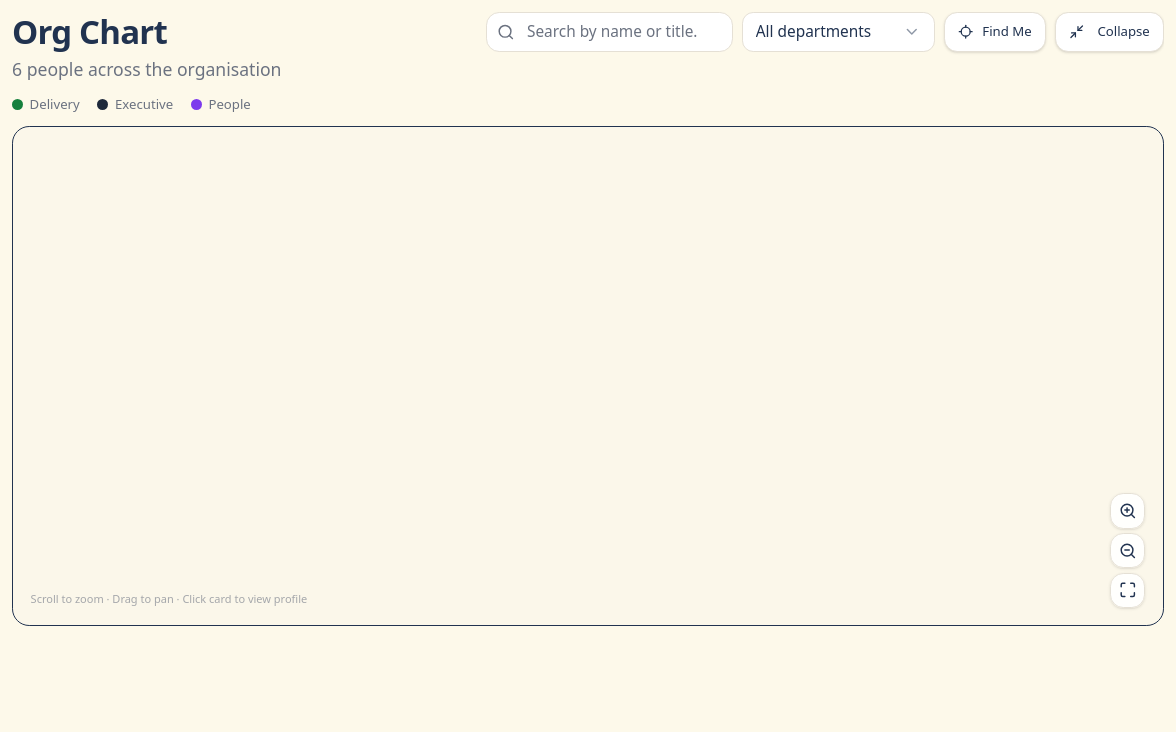
Scenario: OrgChartContent › clears search when clear button is clicked
Type "test" into the field with placeholder "Search by name or title..." at (610, 32), box [486,12,733,52]
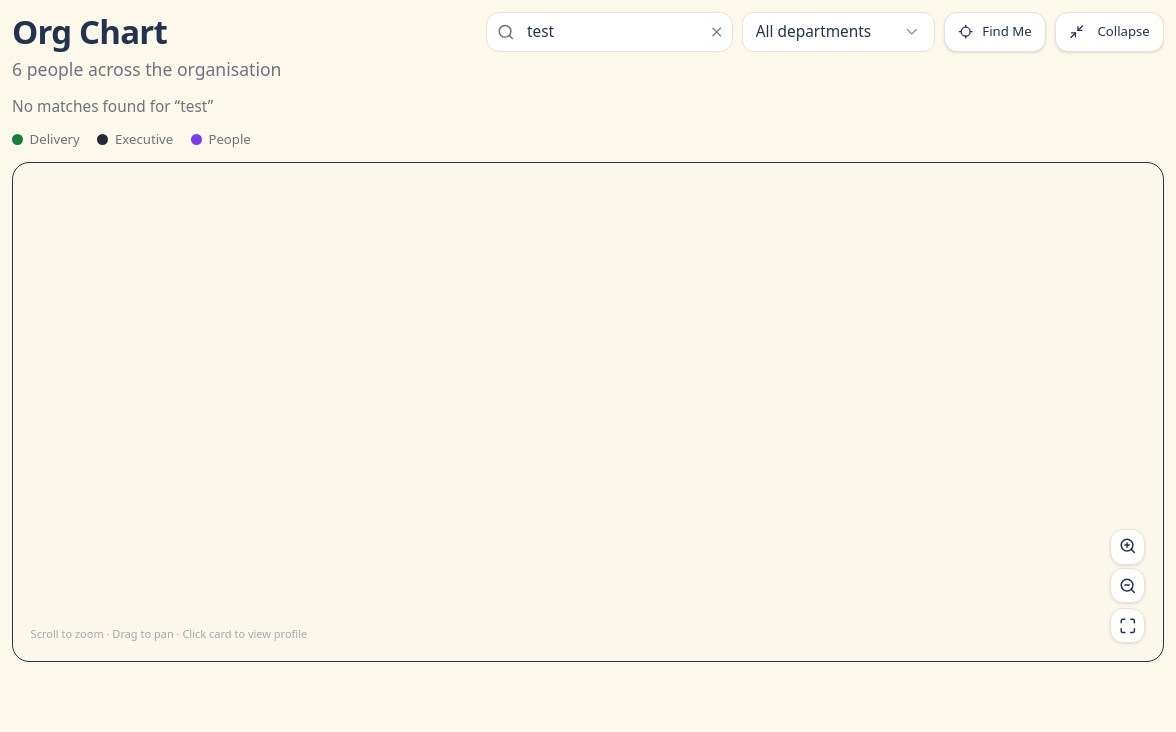
Click the button named "Clear search" at (716, 32), box [709,24,724,40]
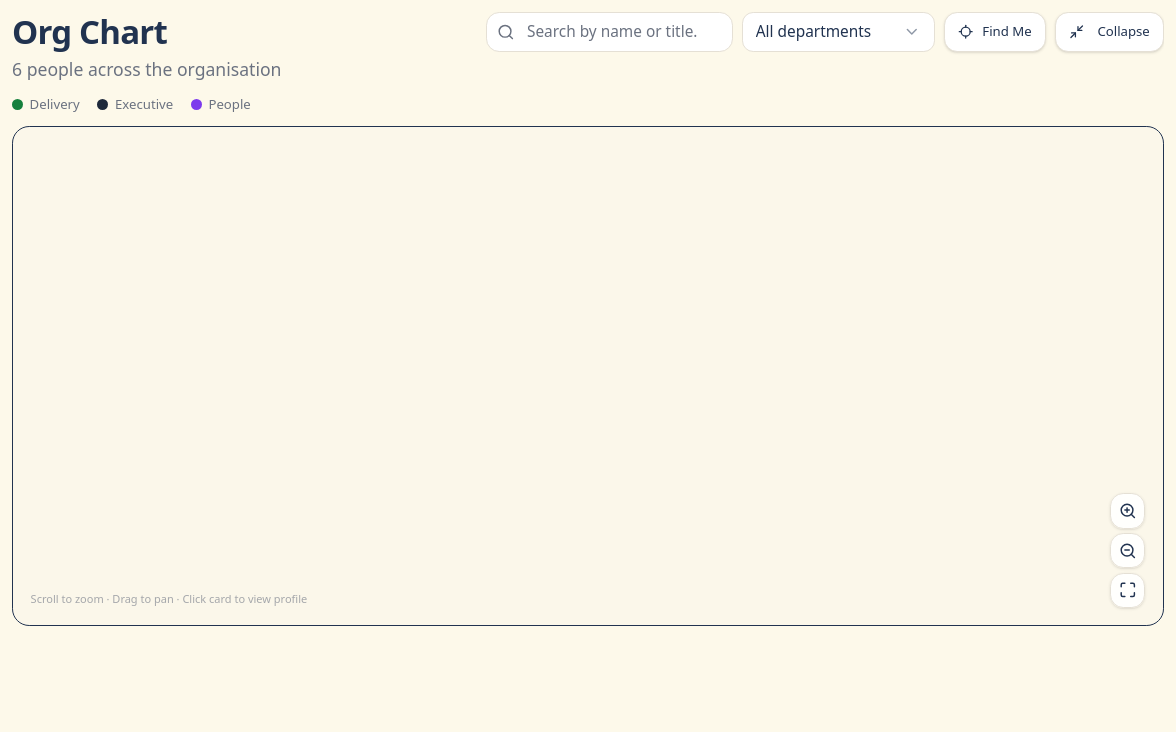
Result: the field with placeholder "Search by name or title..." is empty at [486,12,733,52]
